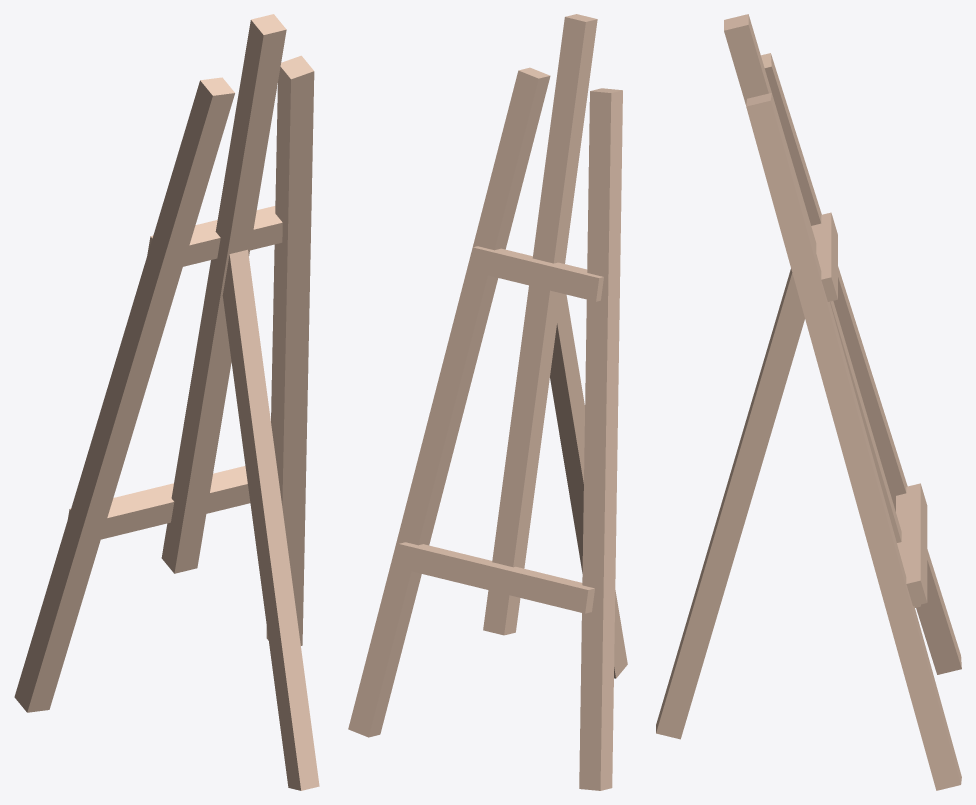
The model's file is item_easel.obj.
3 views of the same model, side by side, from view 1: azimuth 30°, elevation 25°; view 2: azimuth 150°, elevation 25°; view 3: azimuth 270°, elevation 25° (orthographic). The views are drawn at different scales.
Visible parts, largest first — view 1: native_easel_tripod_legs, native_easel_central_support, native_easel_canvas_crossbars; view 2: native_easel_tripod_legs, native_easel_central_support, native_easel_canvas_crossbars; view 3: native_easel_tripod_legs, native_easel_canvas_crossbars, native_easel_central_support.
Part boxes in pixels (x1,y1,x2,y2): native_easel_tripod_legs: (14,55,319,790); native_easel_central_support: (161,14,286,573); native_easel_canvas_crossbars: (68,206,282,539); native_easel_tripod_legs: (348,67,627,790); native_easel_central_support: (483,14,597,635); native_easel_canvas_crossbars: (395,246,603,613); native_easel_tripod_legs: (656,53,961,790); native_easel_canvas_crossbars: (811,212,927,606); native_easel_central_support: (724,14,920,607).
Bounding box in the file's own units: 0.7489 × 1.93 × 0.7479.
